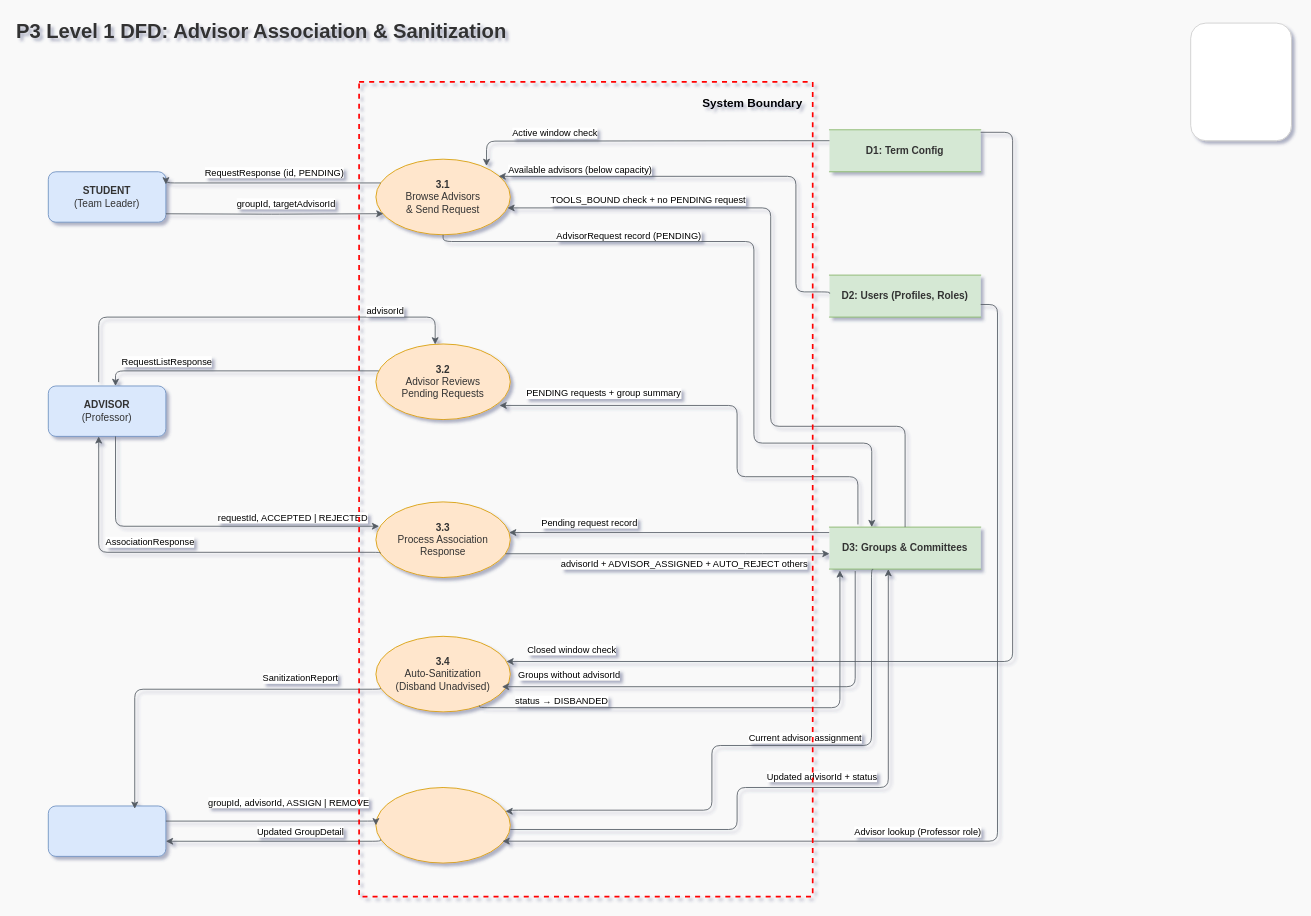
This 1311x916 diagram has some shape labels left out. The centre of each missing label's shape, as x and y in pixels:
3.5 Coordinator Advisor Override: [442,825]
COORDINATOR: [106,830]
Legend External Actors Sub-Processes Data Stores: [1241,81]
